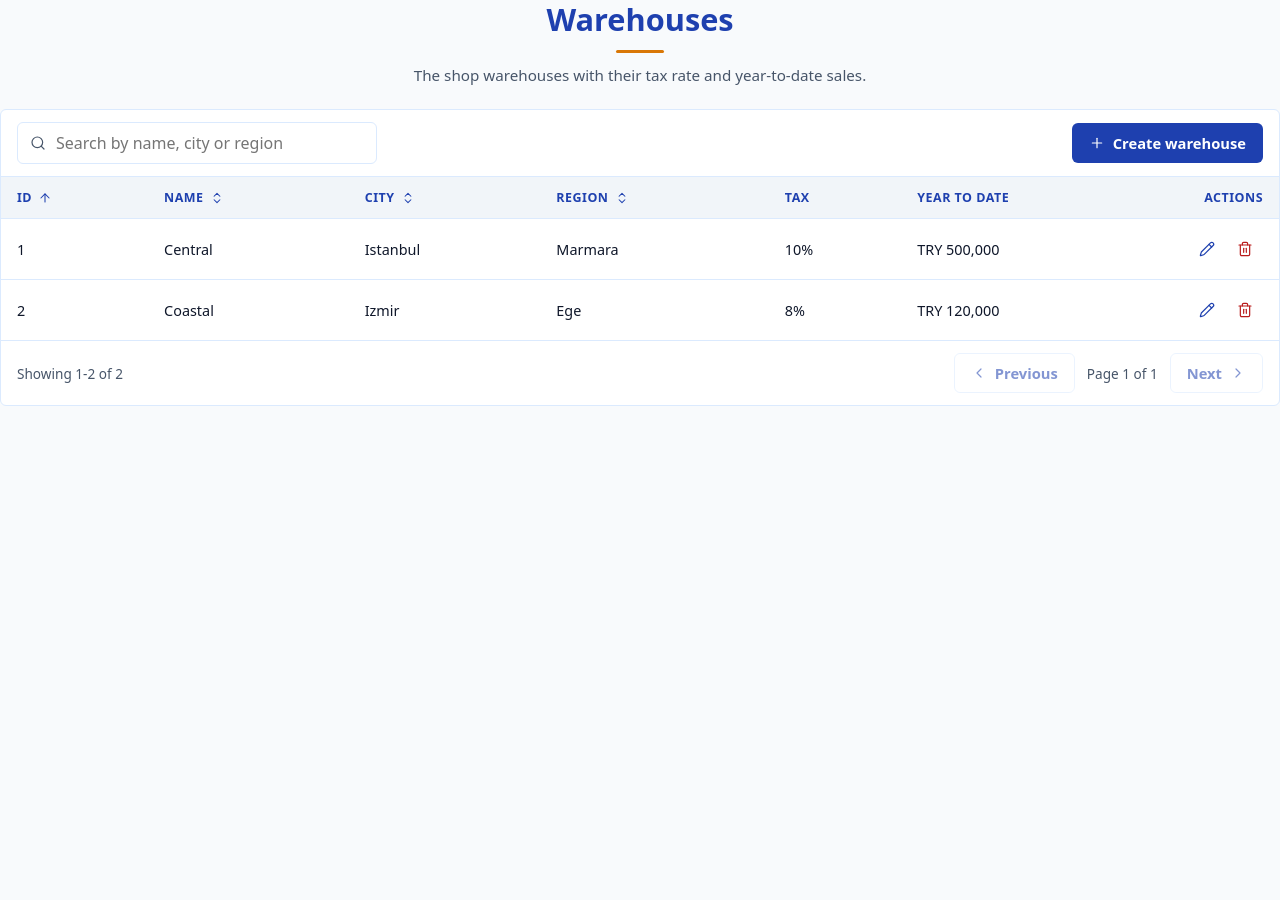
Test: a name longer than 10 characters is refused before the request
Expected: the text "Central" is shown, x1=148 y1=219 x2=349 y2=280
Click the button "Create warehouse".
click(1167, 143)  # box x1=1072 y1=123 x2=1263 y2=163
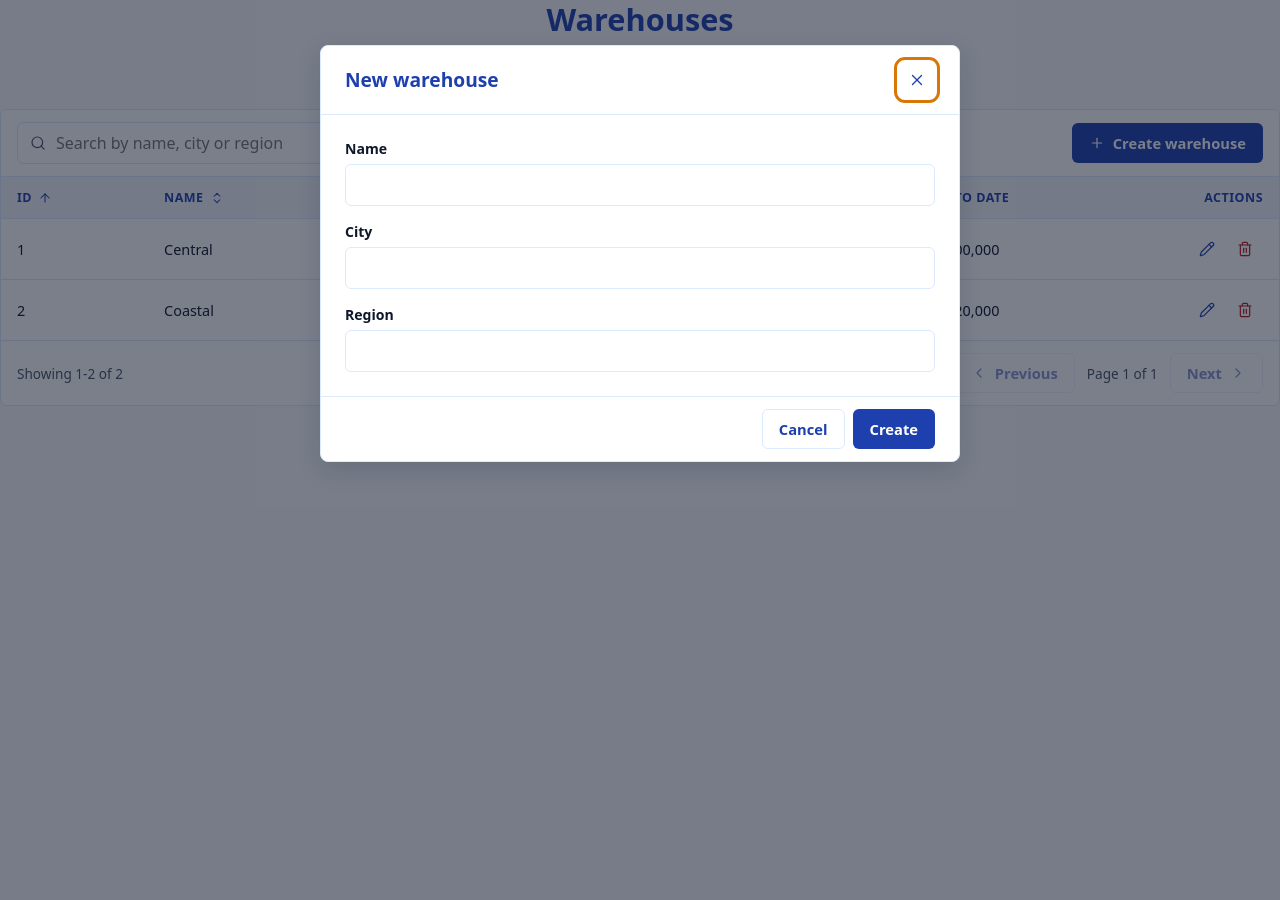
Type "Very long name" into the field labelled "Name".
click(640, 185); type("Very long name")  # box x1=345 y1=164 x2=935 y2=206
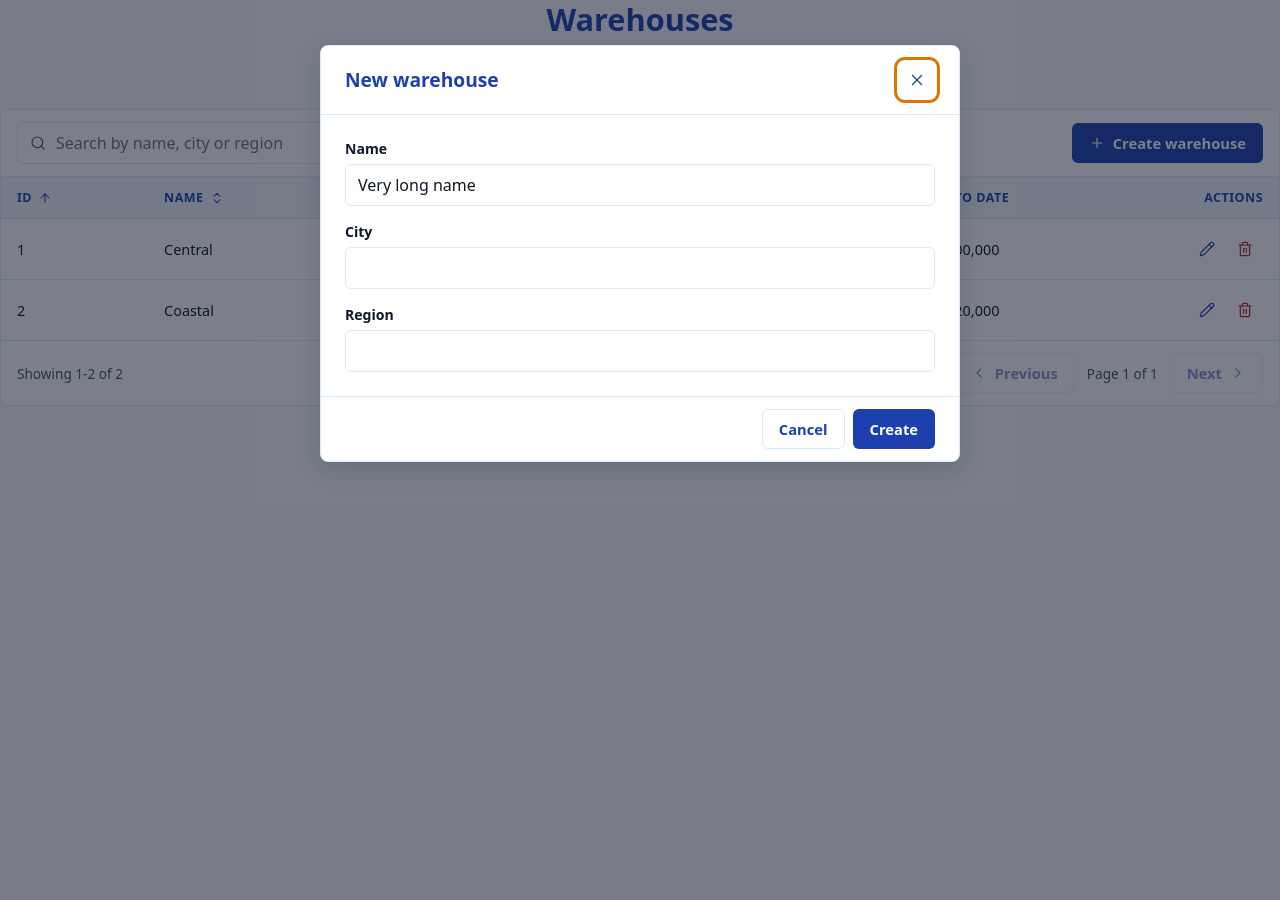
Type "Ankara" into the field labelled "City".
click(640, 268); type("Ankara")  # box x1=345 y1=247 x2=935 y2=289
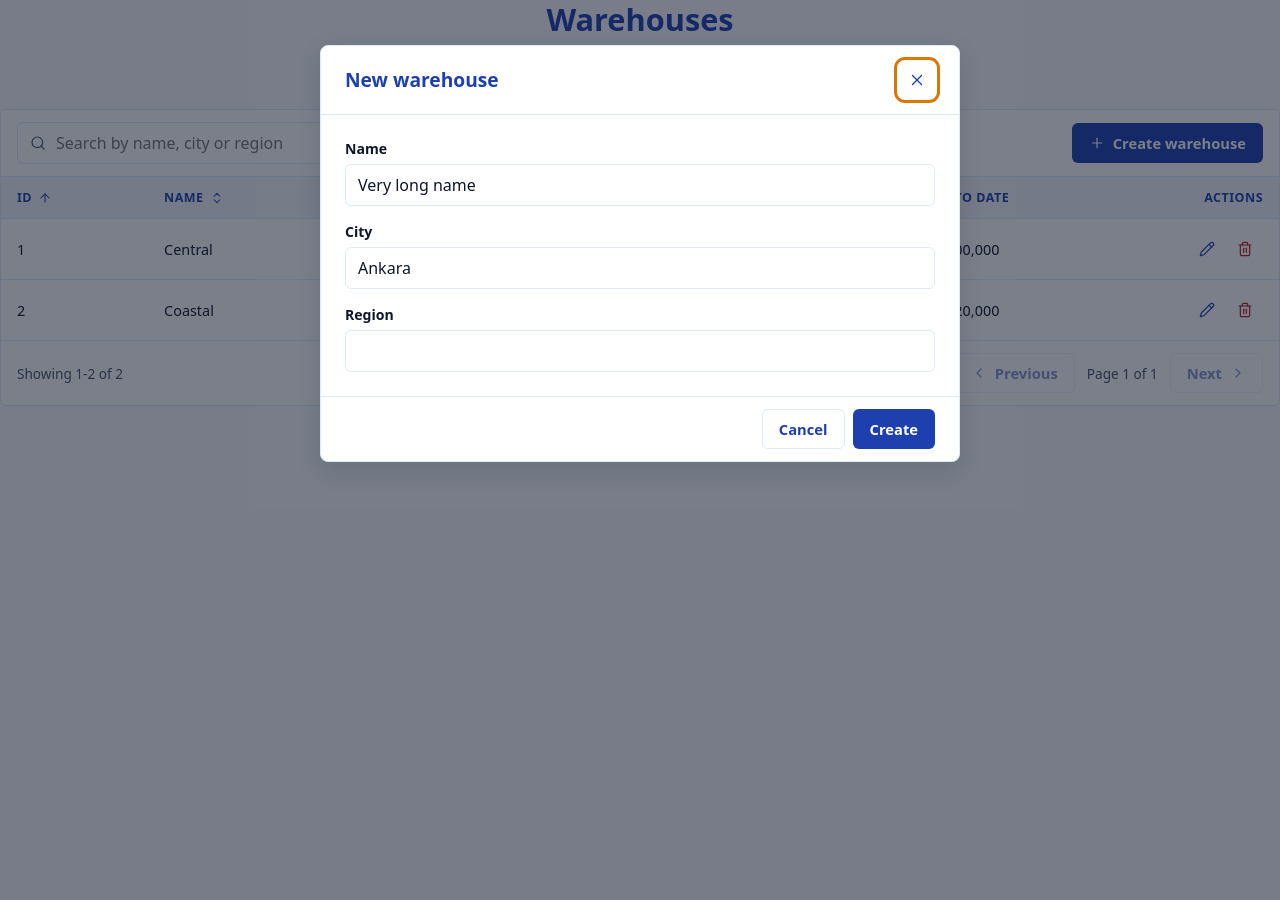
Type "Ic Anadolu" into the field labelled "Region".
click(640, 351); type("Ic Anadolu")  # box x1=345 y1=330 x2=935 y2=372
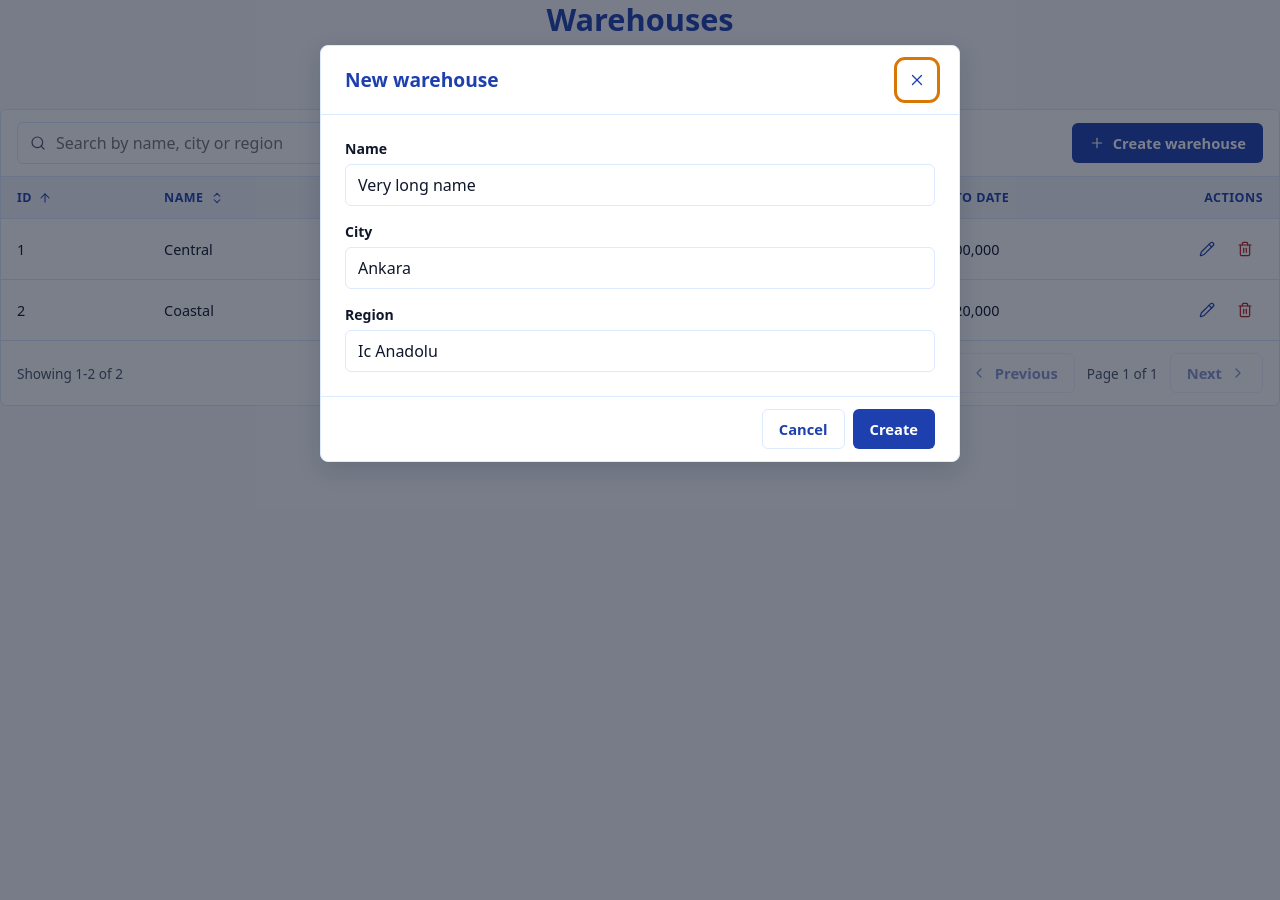
Click the button "Create".
click(894, 429)  # box x1=852 y1=409 x2=935 y2=449
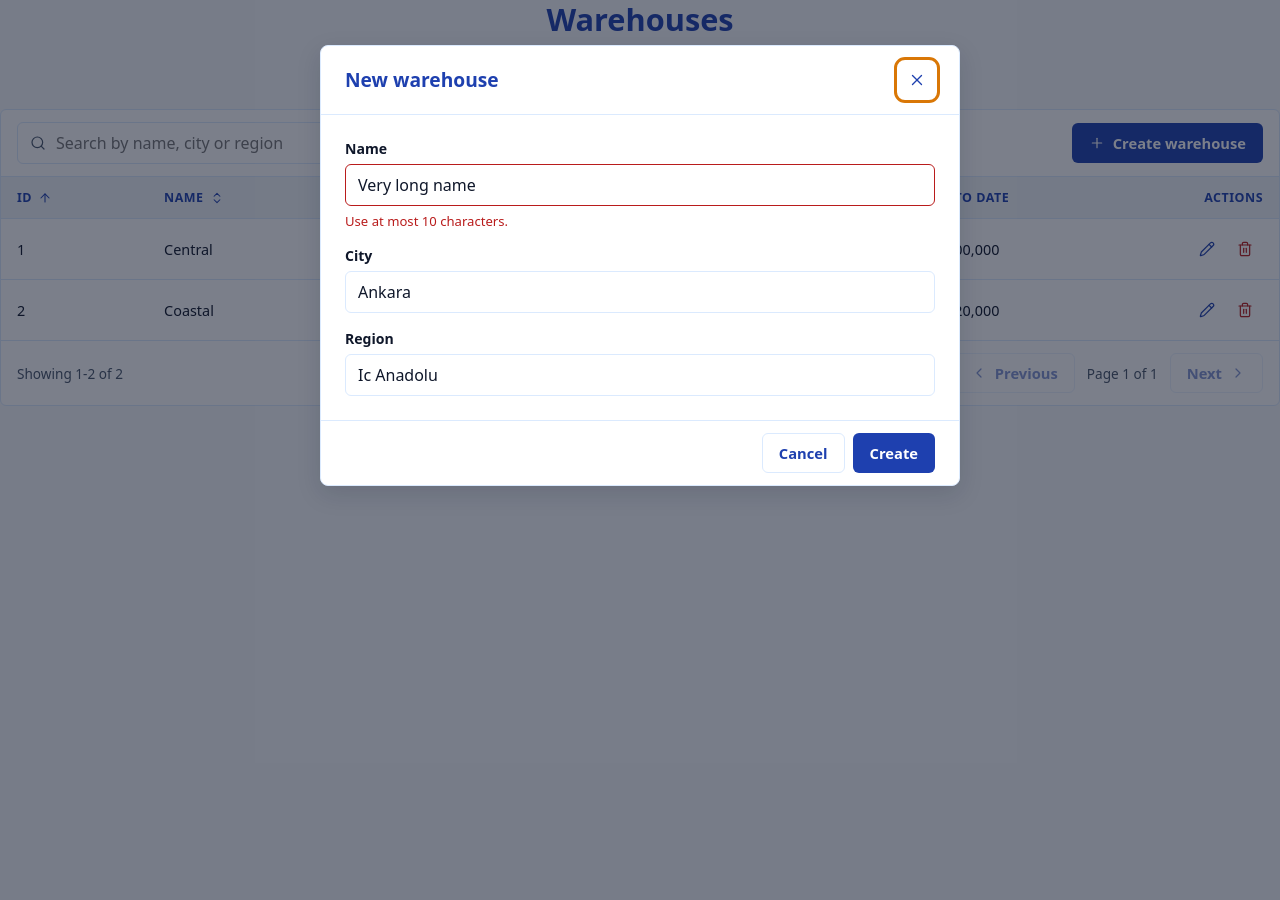
Now the text "Use at most 10 characters." is shown, box x1=345 y1=212 x2=508 y2=230
